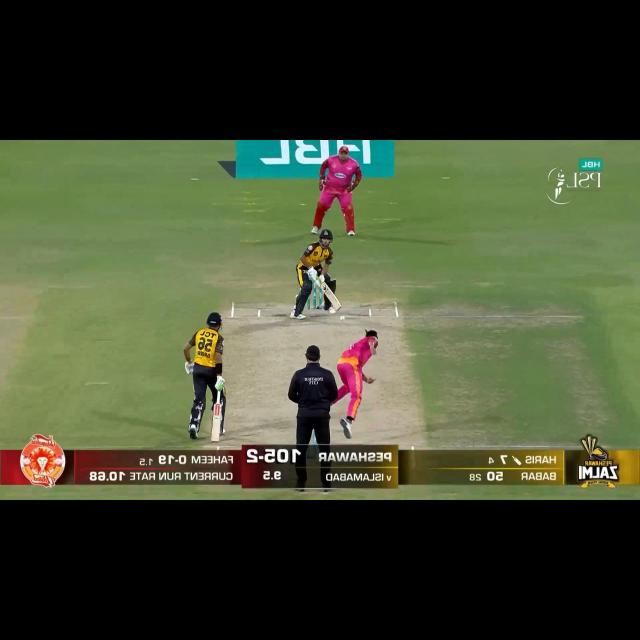bat: (318, 280, 343, 313), (208, 404, 223, 443)
toe: (332, 302, 342, 313), (209, 436, 220, 444)
